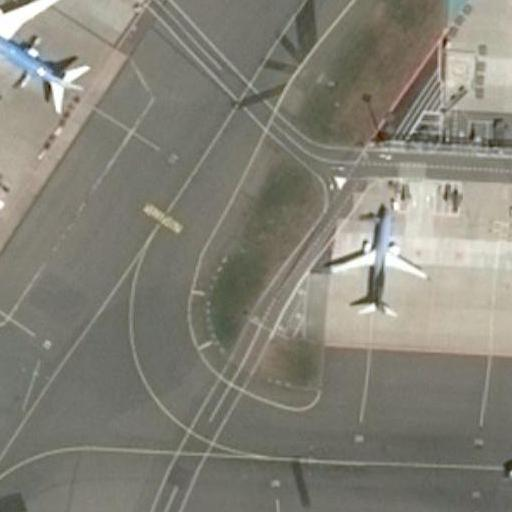Aircraft: (322, 197, 435, 321), (0, 0, 90, 130), (501, 381, 512, 512)
